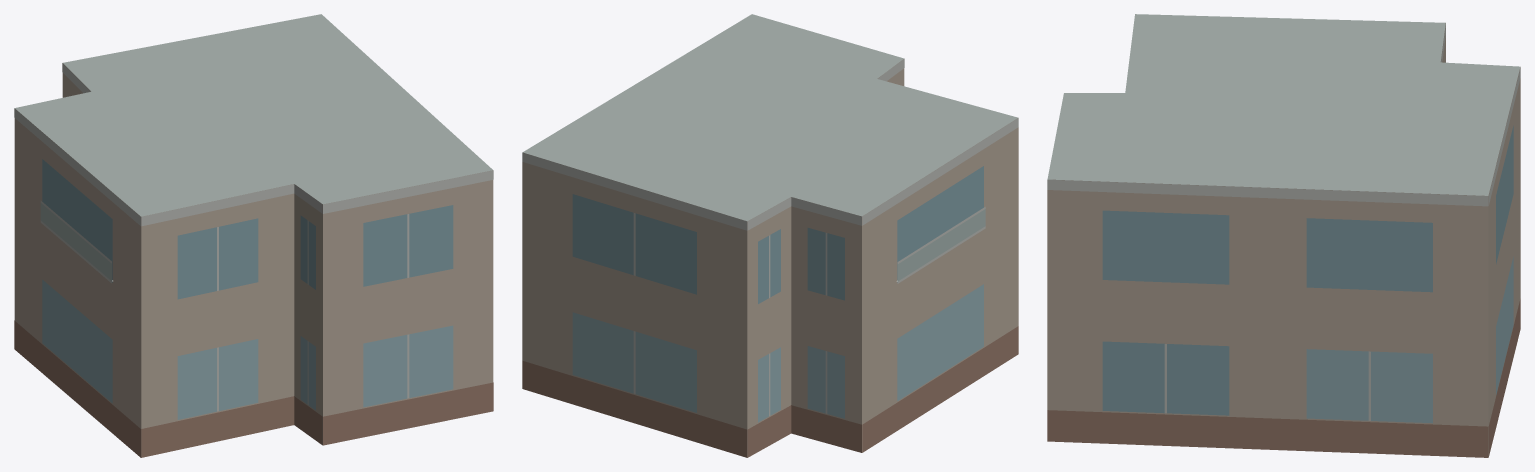
File: survey-upis-32918273.glb
The picture shows the model from 3 angles, left to right: view 1: azimuth 30°, elevation 25°; view 2: azimuth 150°, elevation 25°; view 3: azimuth 270°, elevation 25°; orthographic projection. The views are drawn at different scales.
Parts seen in each view (by area): view 1: survey-upis-32918273.tmp; view 2: survey-upis-32918273.tmp; view 3: survey-upis-32918273.tmp.
Part boxes in pixels (x1=…): survey-upis-32918273.tmp: x1=14, y1=14, x2=493, y2=457; survey-upis-32918273.tmp: x1=522, y1=14, x2=1018, y2=457; survey-upis-32918273.tmp: x1=1047, y1=14, x2=1520, y2=457.
Bounding box in the file's own units: 9.09 × 6.1 × 10.
